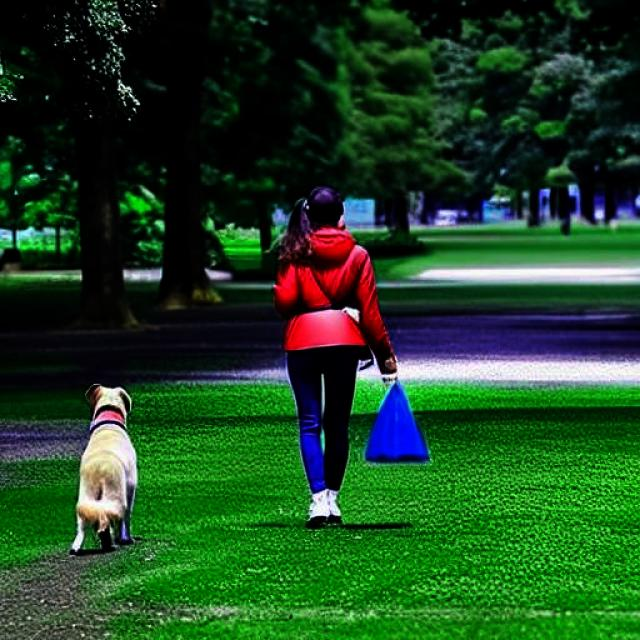Unleashed_Dog: (69, 328, 360, 556)
